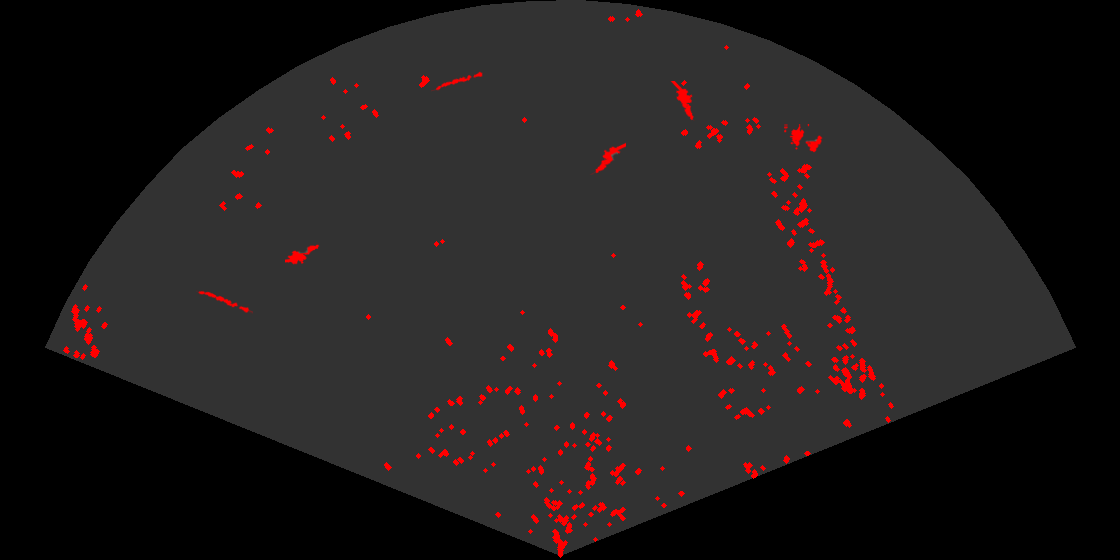cage: (784, 124, 824, 154)
chain: (196, 289, 253, 315), (431, 70, 483, 92)
frogman: (589, 141, 626, 175), (669, 81, 696, 121), (285, 243, 320, 266)
